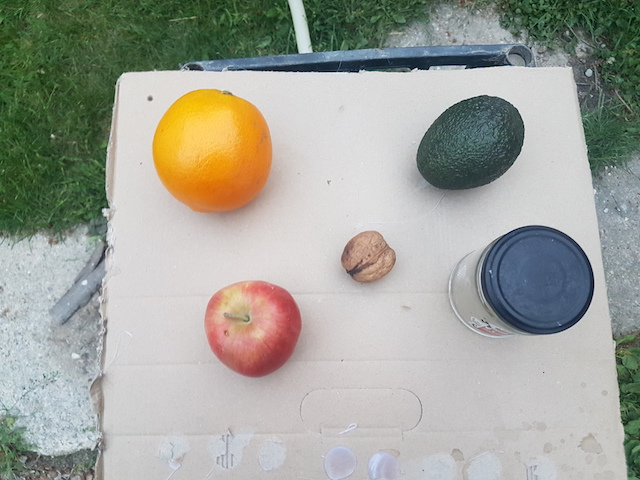apple: (202, 279, 304, 381)
avocado: (416, 94, 525, 193)
nut: (337, 226, 400, 285)
orange: (149, 86, 279, 215)
recipient: (486, 224, 595, 338)
